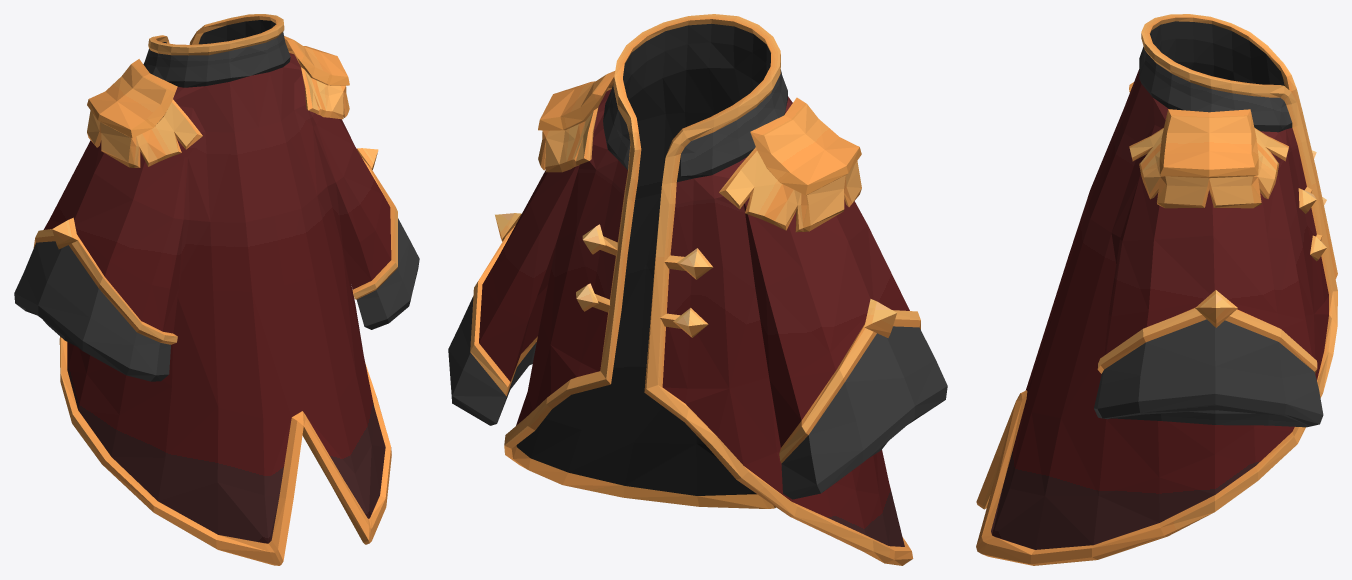
File: CharSkyKid_Wing_BandJacket.glb
3 renders of one model, left to right at view 1: azimuth 30°, elevation 25°; view 2: azimuth 150°, elevation 25°; view 3: azimuth 270°, elevation 25°, orthographic. The views are drawn at different scales.
Visible parts, largest first — view 1: CharSkyKid_Wing_BandJacket; view 2: CharSkyKid_Wing_BandJacket; view 3: CharSkyKid_Wing_BandJacket.
Boxes of the visible parts, left/top/right/bottom form: CharSkyKid_Wing_BandJacket: left=14, top=14, right=419, bottom=565; CharSkyKid_Wing_BandJacket: left=448, top=14, right=947, bottom=565; CharSkyKid_Wing_BandJacket: left=976, top=14, right=1337, bottom=565.
Size of the model in its own units: 6.97 by 8.68 by 5.69.
Materials: 1 (1 with a texture image).
